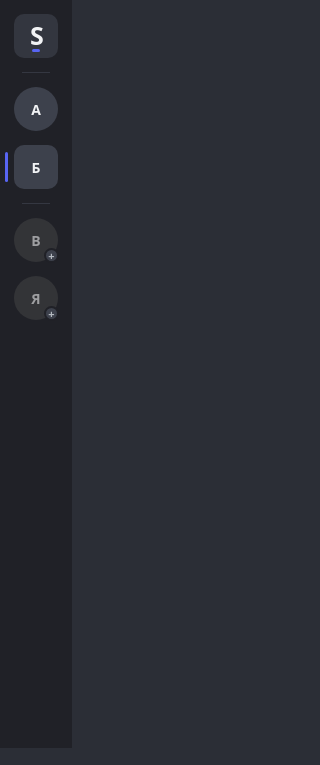
guild navigation › shows accessible tooltips on keyboard focus outside the scrolling rail and dismisses with Escape
Focus the link named "Додати SCRT до сервера Вежа" at [36, 240], box [10, 216, 62, 264]
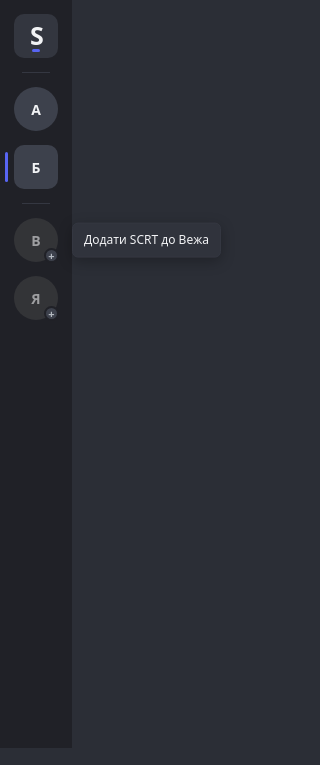
Now the tooltip reads "Додати SCRT до Вежа", box [84, 231, 209, 248]
Press Escape
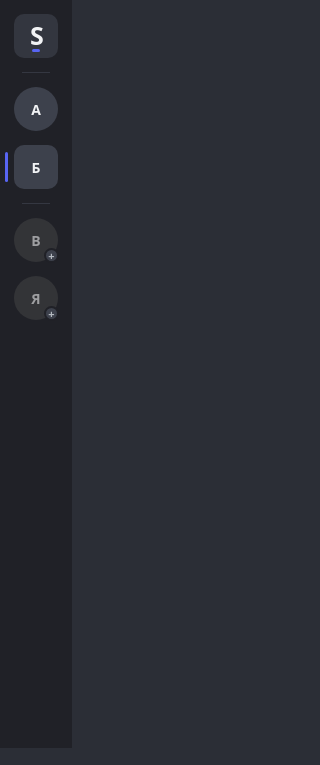
Now the tooltip "Додати SCRT до Вежа" is gone
